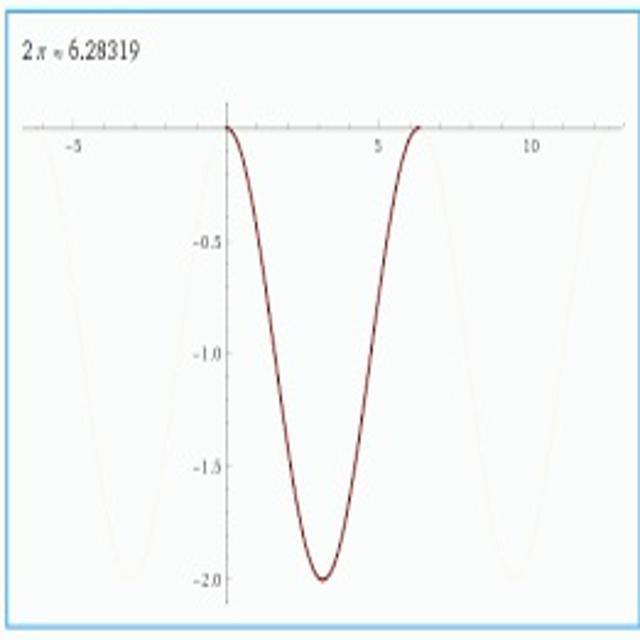axis: (19, 116, 635, 133), (220, 91, 234, 606)
line: (223, 121, 424, 587)
